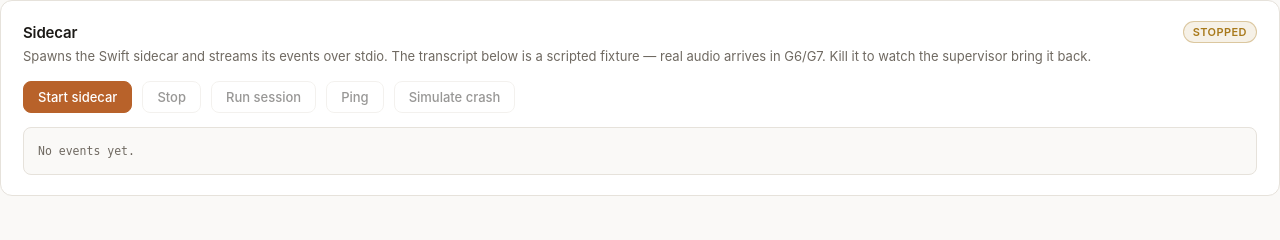
Test: SidecarCard › surfaces a failure to start instead of appearing to work
Click the button "Start sidecar".
click(78, 96)  # box [23,80,132,112]
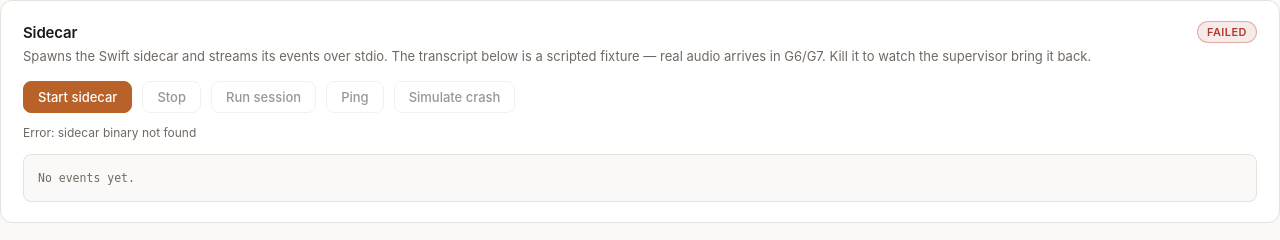
Expected: the text "Error: sidecar binary not found" is shown, [23,124,196,140]
Expected: the text "failed" is shown, [1197,21,1257,43]
